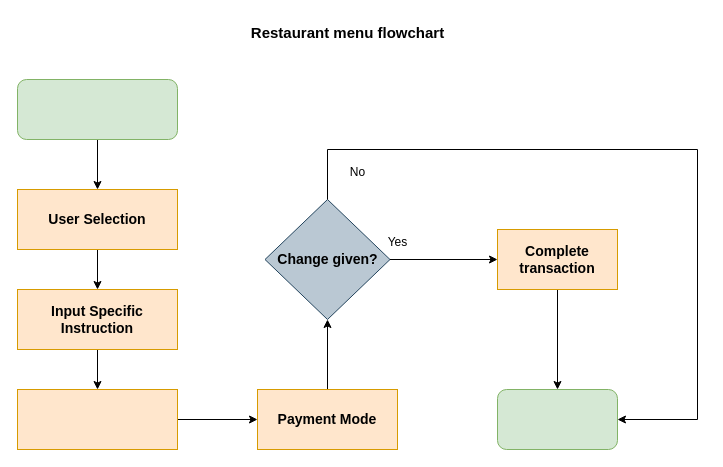
The diagram is 723 pixels wide and 467 high, and some of its shapes have lost their labels. Each missing label, with the centre of its shape:
"Calculate total" belongs at point 97,419.
"Exit" belongs at point 557,419.
"Restaurant Menu" belongs at point 97,109.
